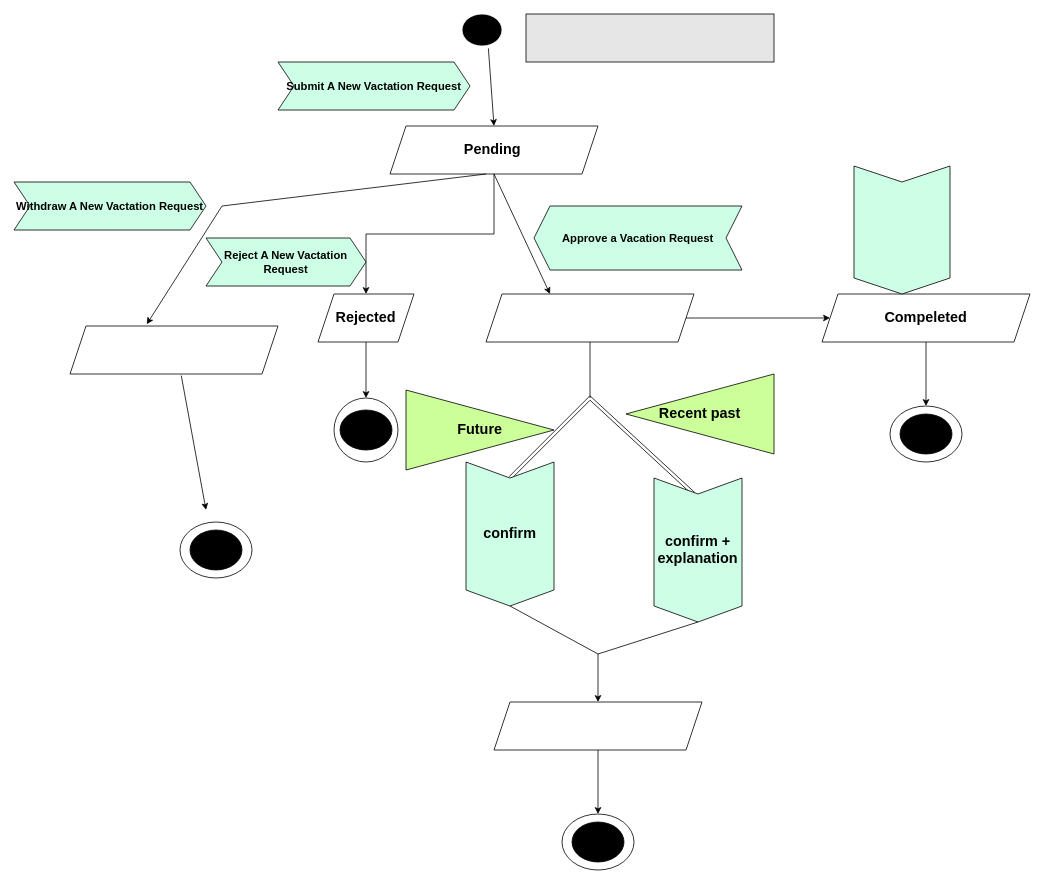
The diagram is 1044 pixels wide and 884 high, and some of its shapes have lost their labels. The centre of each missing label's shape, as x and y in pixels:
"Allownced time passed" goes at pixel 901 229.
"Approved" goes at pixel 589 317.
"Cancelled" goes at pixel 597 725.
"VACTATION REQUEST STATE" goes at pixel 649 37.
"Withdrawn" goes at pixel 173 349.
